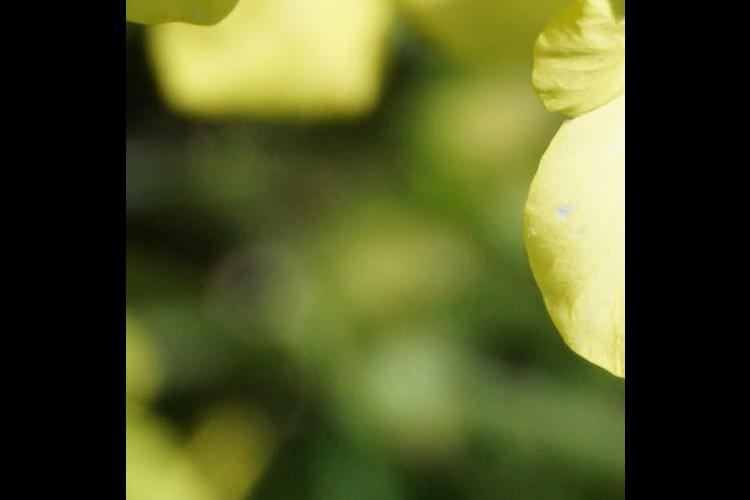yellow: (490, 1, 620, 311)
